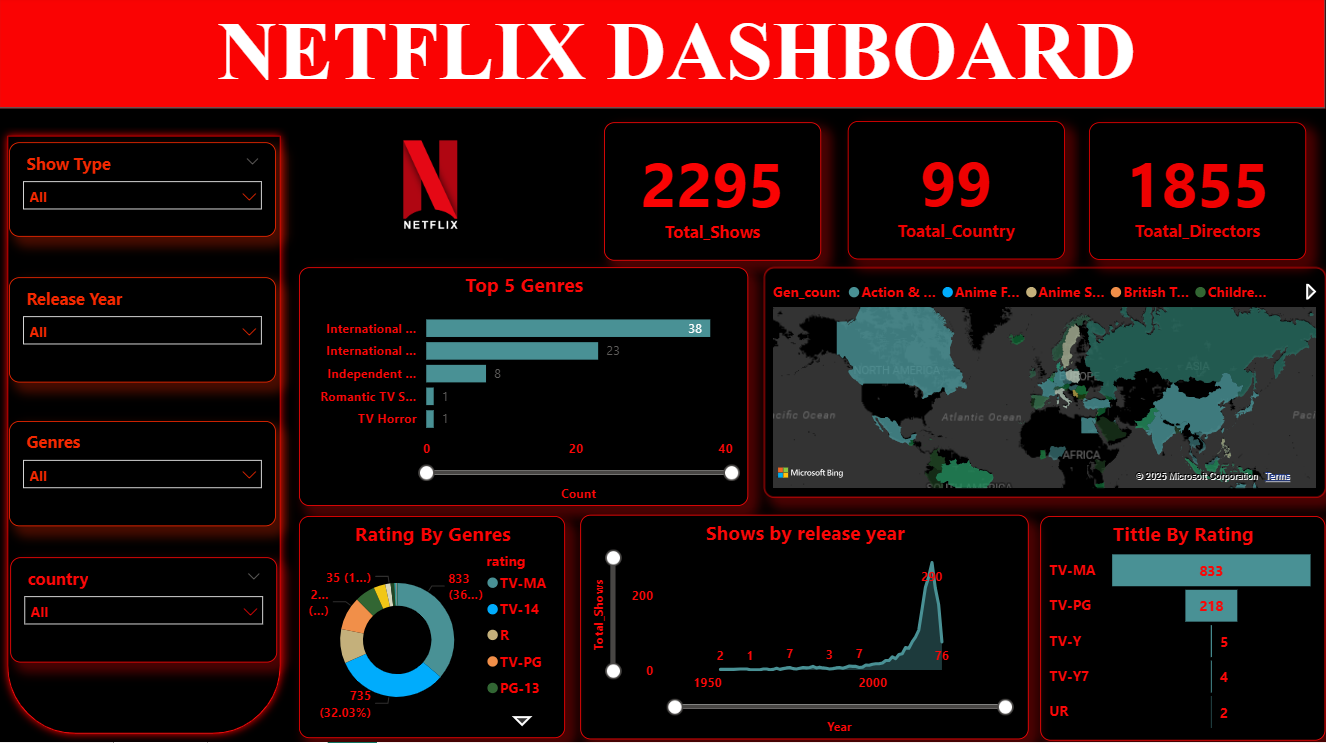

What the dashboard file says about the page in this screenshot:
{"tool":"powerbi","page":{"name":"Over View","canvas":[1280,720],"ordinal":1},"visuals":[{"type":"shape","box":[0,0,1280.3,108.4],"z":0},{"type":"textbox","box":[27.4,2.7,1252.8,105.7],"z":1000},{"type":"shape","box":[0,126.5,279.9,593.5],"z":2000},{"type":"slicer","title":"fgere","fields":{"Values":["netflix_titles.type"]},"box":[10.1,141.6,258,91],"z":3000},{"type":"slicer","fields":{"Values":["netflix_titles.Re_Year"]},"box":[9.6,271.7,258,101.5],"z":4000},{"type":"slicer","fields":{"Values":["netflix_titles.listed_in.1"]},"box":[9.6,410.3,258,101.5],"z":5000},{"type":"card","fields":{"Values":["netflix_titles.Total_Shows"]},"box":[583.9,121.9,209.9,133.9],"z":6000},{"type":"slicer","fields":{"Values":["netflix_titles.country.1"]},"box":[11,542,258,101.5],"z":7000},{"type":"clusteredBarChart","title":"Top 5 Genres","fields":{"Category":["netflix_titles.listed_in.1"],"Y":["CountNonNull(netflix_titles.listed_in.1)"]},"box":[289.5,262.1,433.6,230.5],"z":8000},{"type":"filledMap","fields":{"Category":["netflix_titles.country"],"Series":["netflix_titles.listed_in.1"]},"box":[738.3,262.1,542,222.3],"z":9000},{"type":"funnel","title":"Tittle By Rating","fields":{"Category":["netflix_titles.rating"],"Y":["CountNonNull(netflix_titles.listed_in.1)"]},"box":[1005,501.9,275.1,217.2],"z":10000},{"type":"areaChart","title":"Shows by release  year","fields":{"Category":["netflix_titles.release_year"],"Y":["netflix_titles.Total_Shows"]},"box":[561,500.7,433.1,217.2],"z":11000},{"type":"card","fields":{"Values":["netflix_titles.Toatal_Country"]},"box":[819.2,120.6,209.9,133.9],"z":12000},{"type":"card","fields":{"Values":["netflix_titles.Toatal_Directors"]},"box":[1052.5,122.1,209.9,133.1],"z":13000},{"type":"image","box":[279.9,108.4,269,150.9],"z":14000},{"type":"donutChart","title":"Rating By  Genres","fields":{"Category":["netflix_titles.rating"],"Y":["CountNonNull(netflix_titles.listed_in.1)"]},"box":[289.5,501.9,257,214.7],"z":15000}]}

Visuals, with their boxes in screenshot pixels (x1, y1, x2, y2), scaled from the page's 1280x720 canvas onto the 1326x743 screenshot:
shape: left=0, top=0, right=1325, bottom=112
textbox: left=28, top=3, right=1325, bottom=112
shape: left=0, top=131, right=290, bottom=742
"fgere" slicer: left=10, top=146, right=278, bottom=240
slicer - netflix_titles.Re_Year: left=10, top=280, right=277, bottom=385
slicer - netflix_titles.listed_in.1: left=10, top=423, right=277, bottom=528
card - netflix_titles.Total_Shows: left=605, top=126, right=822, bottom=264
slicer - netflix_titles.country.1: left=11, top=559, right=279, bottom=664
"Top 5 Genres" clusteredBarChart: left=300, top=270, right=749, bottom=508
filledMap - netflix_titles.country x netflix_titles.listed_in.1: left=765, top=270, right=1325, bottom=500
"Tittle By Rating" funnel: left=1041, top=518, right=1325, bottom=742
"Shows by release  year" areaChart: left=581, top=517, right=1030, bottom=741
card - netflix_titles.Toatal_Country: left=849, top=124, right=1066, bottom=263
card - netflix_titles.Toatal_Directors: left=1090, top=126, right=1308, bottom=263
image: left=290, top=112, right=569, bottom=268
"Rating By  Genres" donutChart: left=300, top=518, right=566, bottom=739
